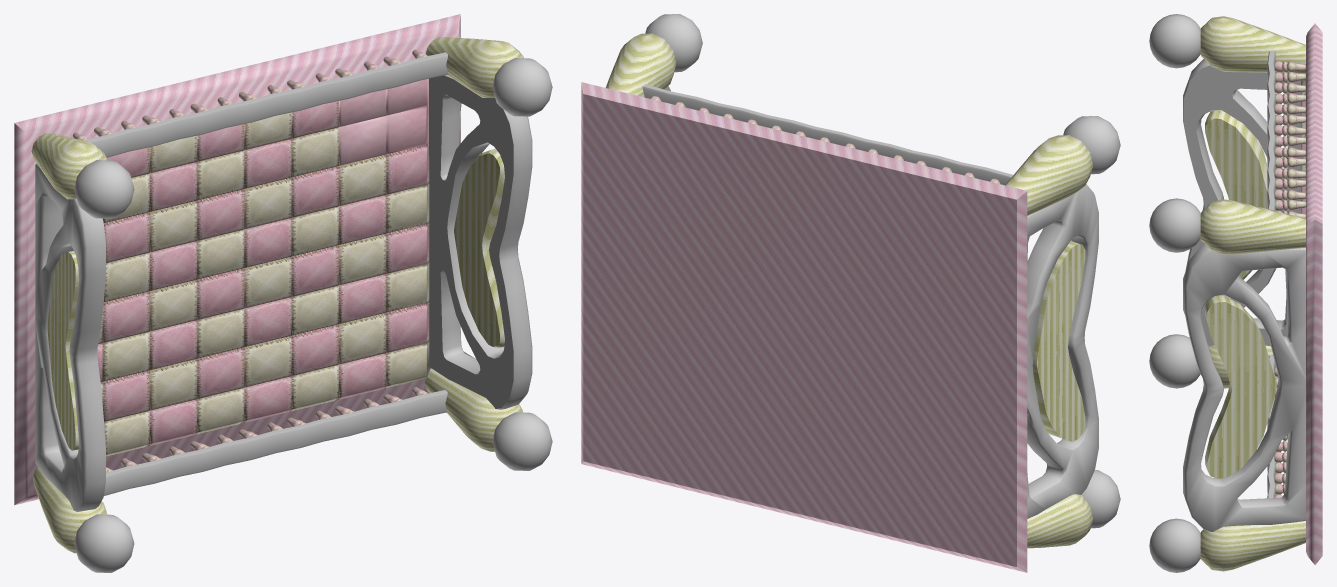
The model's file is Chauncey Arena.obj.
The picture shows the model from 3 angles, left to right: view 1: azimuth 30°, elevation 25°; view 2: azimuth 150°, elevation 25°; view 3: azimuth 270°, elevation 25°; orthographic projection. The views are drawn at different scales.
Visible parts, largest first — view 1: part1_texture1, part5_texture2, part0_texture0, part2_texture2, part7_texture3, part4_texture2, part8_texture3, part6_texture3; view 2: part0_texture0, part5_texture2, part7_texture3, part8_texture3, part4_texture2, part2_texture2; view 3: part5_texture2, part7_texture3, part8_texture3, part0_texture0, part4_texture2, part6_texture3, part2_texture2, part3_texture2, part1_texture1.
Part boxes in pixels (box(x1,y1,x2,y2)): part1_texture1: box(63, 79, 429, 456); part5_texture2: box(35, 75, 532, 511); part0_texture0: box(14, 14, 460, 505); part2_texture2: box(83, 52, 448, 495); part7_texture3: box(31, 37, 523, 553); part4_texture2: box(74, 58, 552, 572); part8_texture3: box(47, 148, 504, 450); part6_texture3: box(73, 49, 426, 471); part0_texture0: box(581, 82, 1027, 572); part5_texture2: box(664, 86, 1098, 518); part7_texture3: box(605, 33, 1093, 548); part8_texture3: box(1032, 241, 1085, 441); part4_texture2: box(645, 14, 1120, 528); part2_texture2: box(642, 84, 1013, 185); part5_texture2: box(1183, 59, 1305, 531); part7_texture3: box(1200, 16, 1305, 571); part8_texture3: box(1205, 110, 1276, 478); part0_texture0: box(1306, 23, 1322, 564); part4_texture2: box(1149, 14, 1200, 572); part6_texture3: box(1274, 60, 1305, 497); part2_texture2: box(1267, 50, 1275, 498); part3_texture2: box(1282, 61, 1287, 495); part1_texture1: box(1301, 79, 1305, 214).
Size of the model in its own units: 14.45 by 12 by 5.1.
